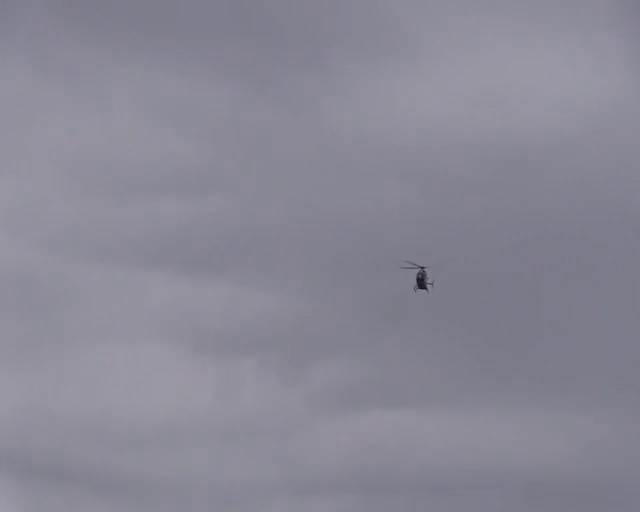HELICOPTER: (399, 259, 434, 293)
